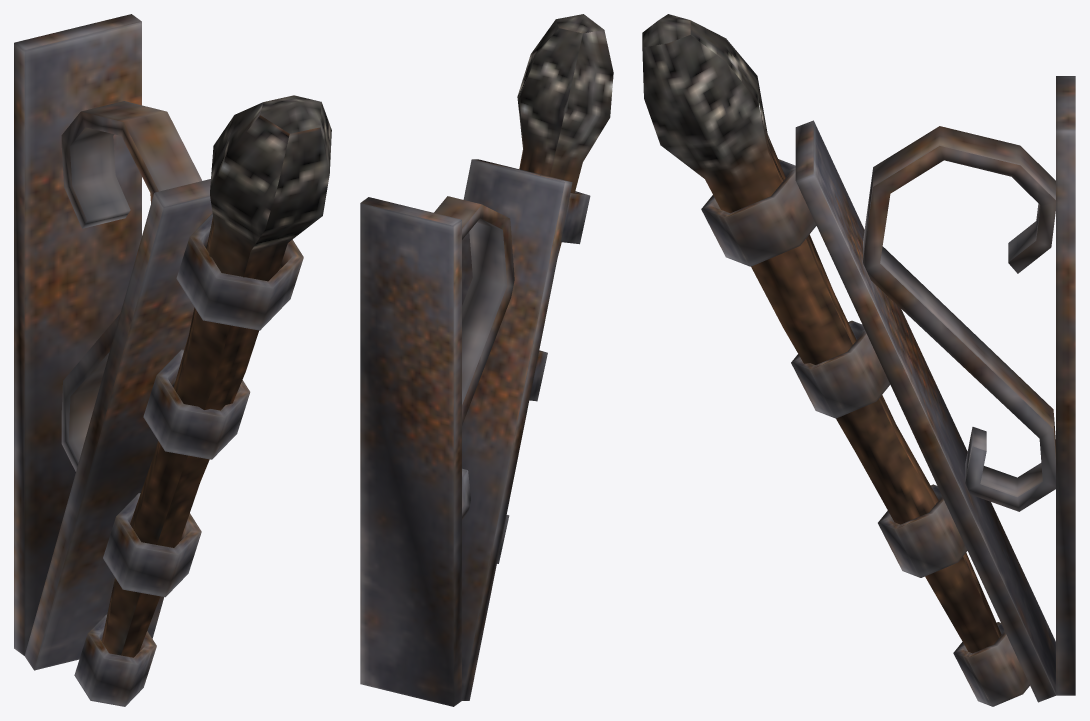
The model's file is wall_torch_borked.obj.
The picture shows the model from 3 angles, left to right: view 1: azimuth 30°, elevation 25°; view 2: azimuth 150°, elevation 25°; view 3: azimuth 270°, elevation 25°; orthographic projection. The views are drawn at different scales.
Visible parts, largest first — view 1: Cone001, Object001, Object002, Object003, Object004, Object005, Object006, Object007; view 2: Cone001, Object002, Object001, Object003, Object004, Object005; view 3: Object001, Object002, Object003, Cone001, Object004, Object005, Object006, Object007.
Part boxes in pixels (x1,y1,x2,y2): Cone001: (14,14,141,655); Object001: (101,95,331,657); Object002: (24,179,212,670); Object003: (61,101,202,471); Object004: (176,213,303,330); Object005: (143,349,250,459); Object006: (103,493,201,597); Object007: (74,614,156,706); Cone001: (360,197,461,706); Object002: (462,159,572,700); Object001: (517,14,613,255); Object003: (434,196,514,519); Object004: (561,191,590,244); Object005: (529,350,547,401); Object001: (642,14,1001,653); Object002: (795,120,1055,702); Object003: (863,126,1055,511); Cone001: (1056,76,1075,695); Object004: (701,159,816,266); Object005: (791,320,890,418); Object006: (878,484,967,577); Object007: (953,622,1029,706).
Size of the model in its own units: 65.36 by 385 by 222.
Materials: 2 (2 with a texture image).
